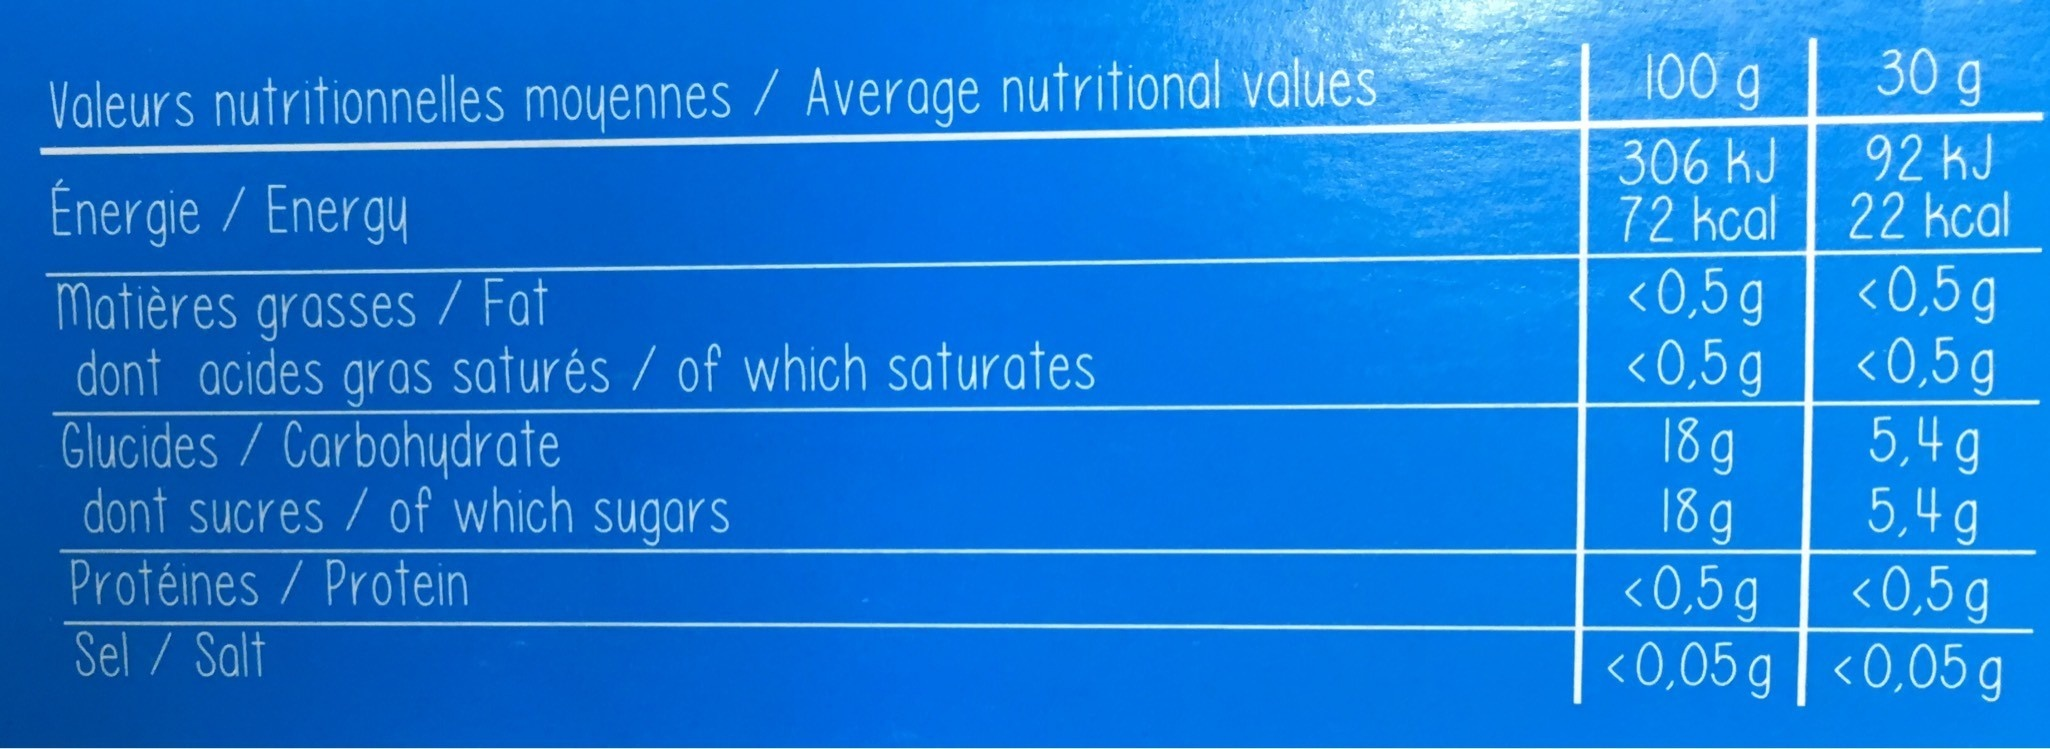column: (44, 55, 1387, 688), (1599, 37, 1794, 701), (1833, 42, 2021, 705)
table: (5, 7, 2047, 749)
